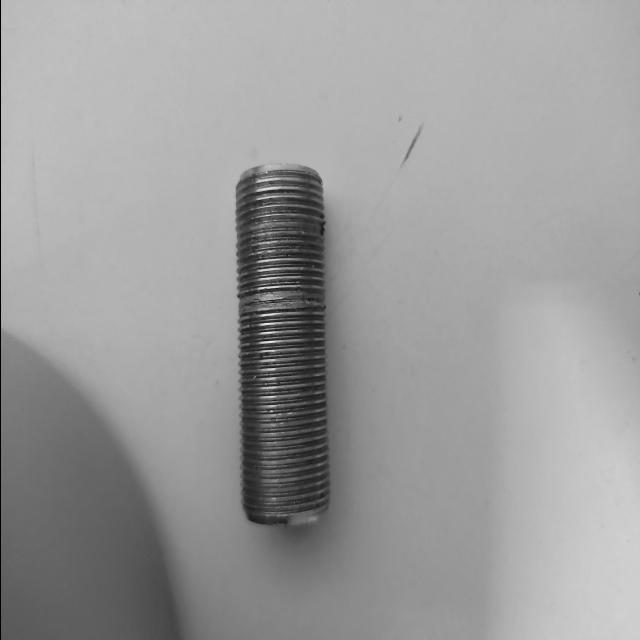Broken: (232, 162, 331, 524)
